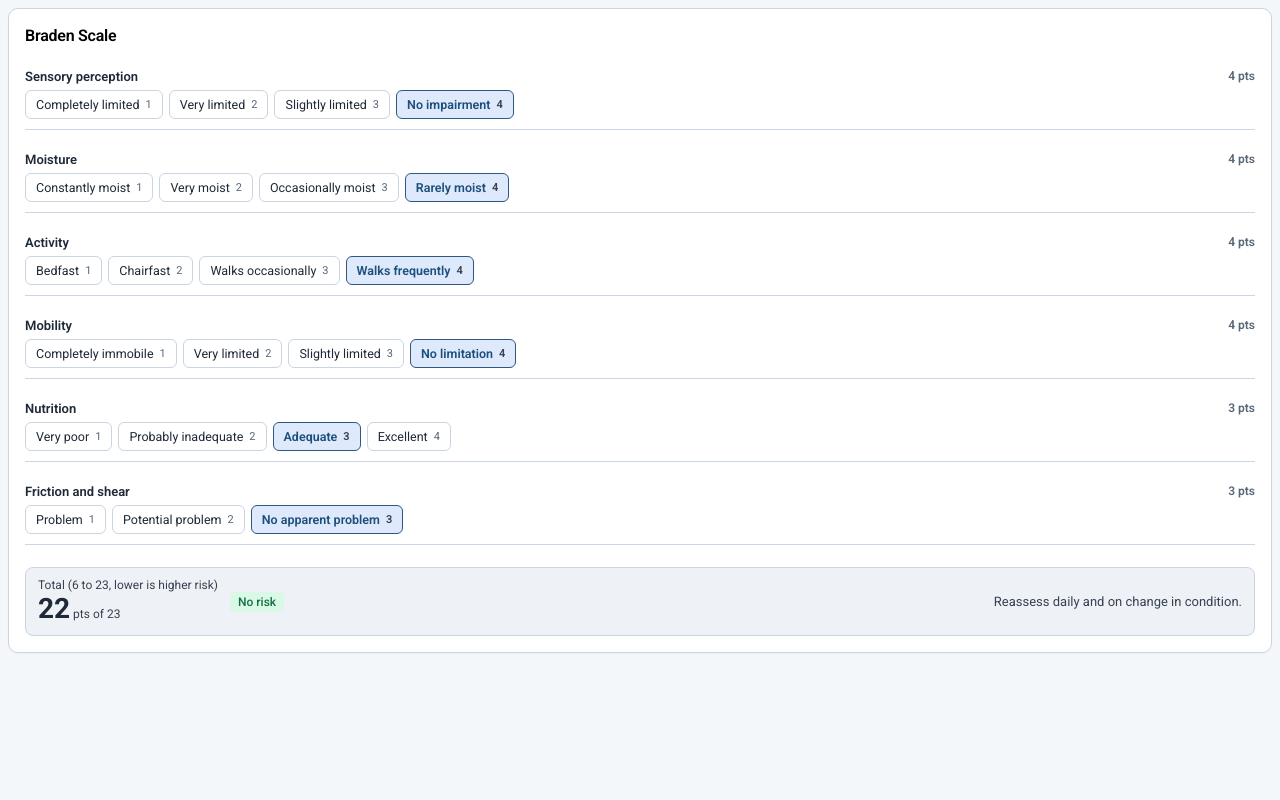
Test: BradenScore › updates the total when an answer changes
The image size is (1280, 800).
Expected: the message shows "22", [38, 592, 70, 625]
Expected: the message shows "No risk", [238, 594, 276, 608]
What coordinates should you click on to do the following:
click the radio button labelled "Constantly moist 1"
I would click on:
 (89, 188)
Its box is [25, 173, 153, 202].
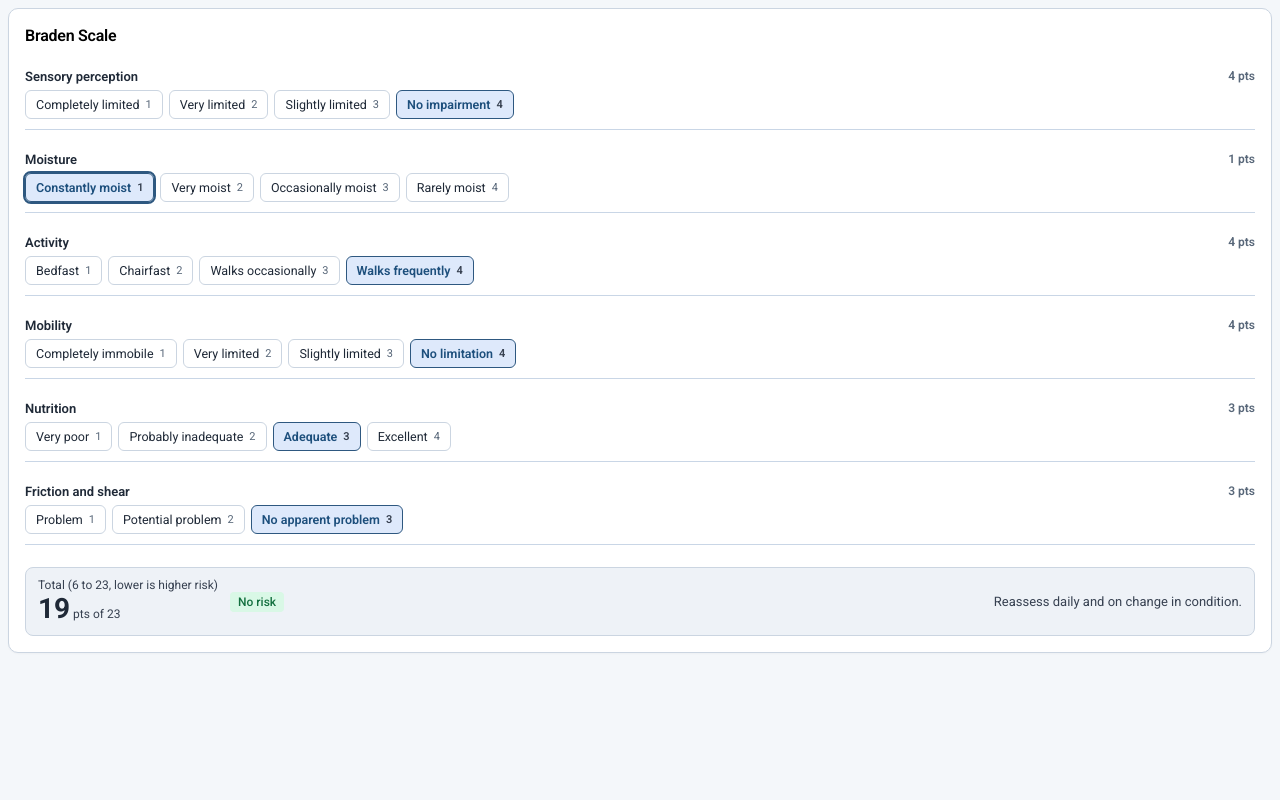
Expected: the message shows "19", [38, 592, 70, 625]
What coordinates should you click on to do the following:
click the radio button labelled "Bedfast 1"
I would click on:
 (64, 270)
Its box is [25, 256, 102, 285].
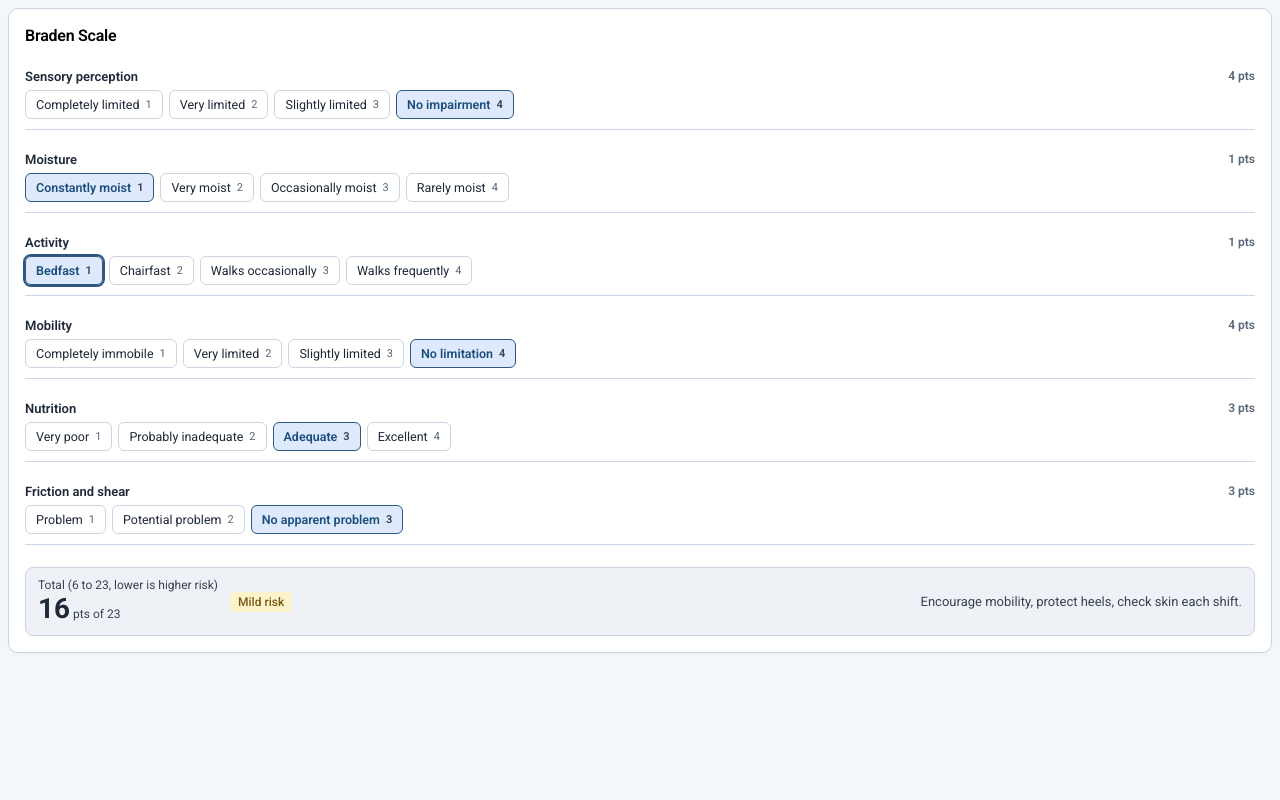
Expected: the message shows "16", [38, 592, 70, 625]
Expected: the message shows "Mild risk", [238, 594, 284, 608]
